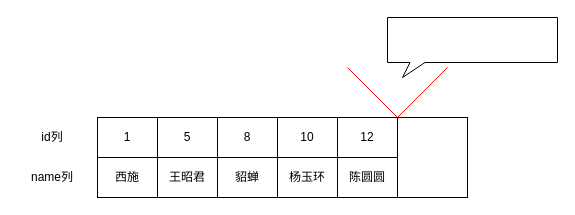
The diagram is 575 pixels wide and 215 high, and some of its shapes have lost their labels. The box of each missing label's shape, as (x1, y1, x2, y2) in pixels:
Supremum: (396, 116, 468, 198)
对 Supremum 记录加Gap Lock: (386, 16, 558, 78)
